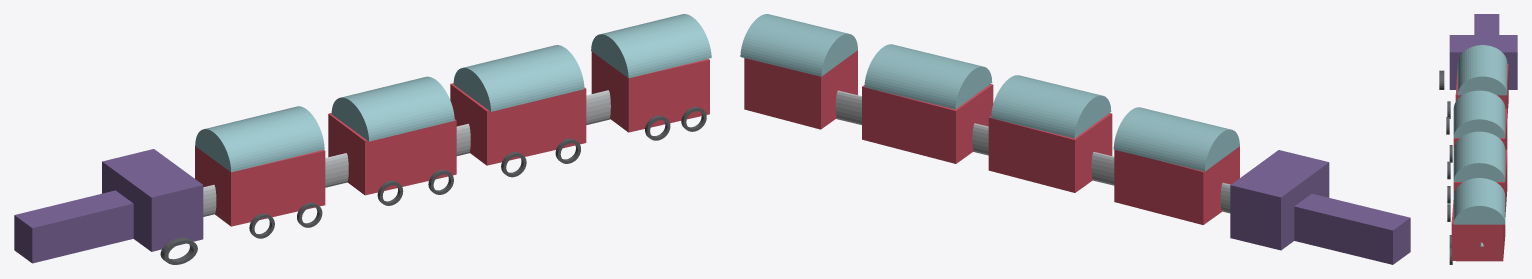
The model's file is Smooth Vihelmo-Migelo.glb.
3 views of the same model, side by side, from view 1: azimuth 30°, elevation 25°; view 2: azimuth 150°, elevation 25°; view 3: azimuth 270°, elevation 25° (orthographic). The views are drawn at different scales.
Visible parts, largest first — view 1: Mesh_Mesh_head_geo.001_lambert2SG.001; view 2: Mesh_Mesh_head_geo.001_lambert2SG.001; view 3: Mesh_Mesh_head_geo.001_lambert2SG.001.
Part boxes in pixels (x1,y1,x2,y2): Mesh_Mesh_head_geo.001_lambert2SG.001: (14, 14, 711, 264); Mesh_Mesh_head_geo.001_lambert2SG.001: (740, 14, 1410, 264); Mesh_Mesh_head_geo.001_lambert2SG.001: (1439, 14, 1517, 264).
Bounding box in the file's own units: 259 × 34.5 × 38.
